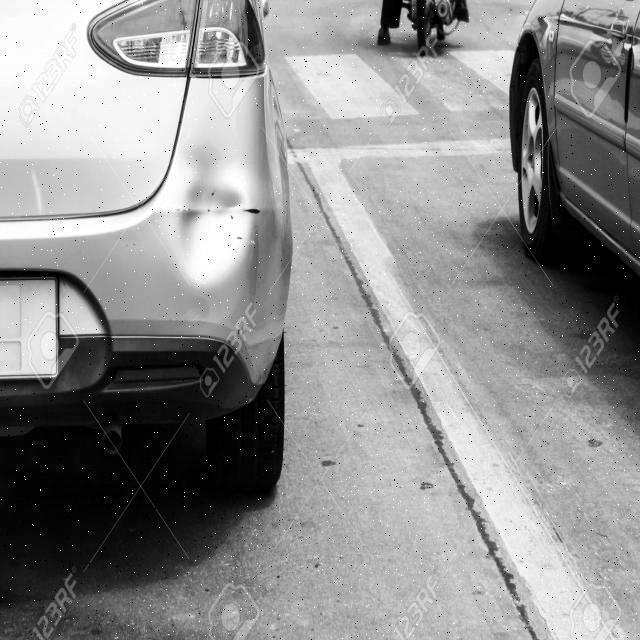rear-bumper-dent: (1, 137, 286, 416)
